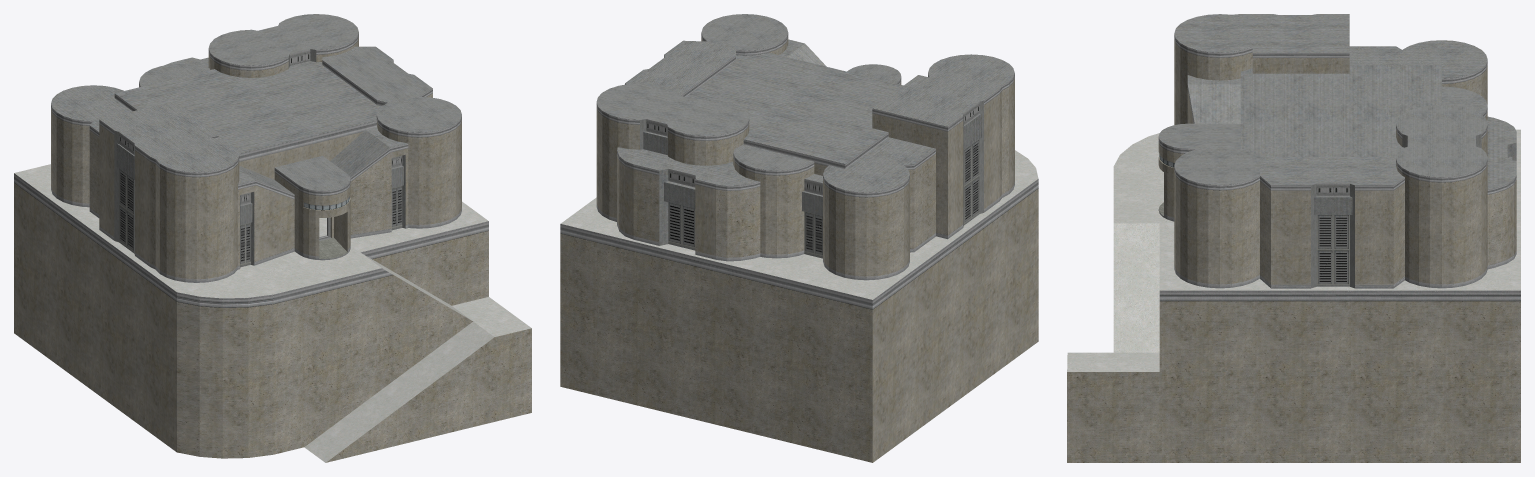
The model's file is ply_all_house_lg_s01_fp1_r0_mesh_l0.fbx.
3 renders of one model, left to right at view 1: azimuth 30°, elevation 25°; view 2: azimuth 150°, elevation 25°; view 3: azimuth 270°, elevation 25°, orthographic. The views are drawn at different scales.
Parts seen in each view (by area): view 1: mesh_node; view 2: mesh_node; view 3: mesh_node.
Boxes of the visible parts, x1,y1,x2,y2 form: mesh_node: (14, 14, 531, 462); mesh_node: (560, 14, 1038, 462); mesh_node: (1067, 14, 1520, 462).
Bounding box in the file's own units: 33.08 × 27.88 × 39.4.
